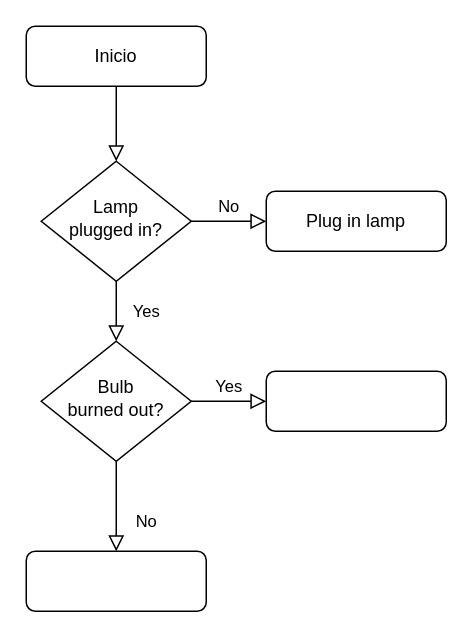
Image size: 473x638. Some labels were removed from this diagram. Each missing label, with the centre of its shape:
Repair Lamp: pixel 115 580
Replace Bulb: pixel 355 400
